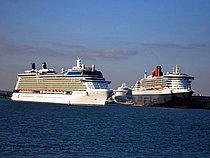Ship: (9, 54, 118, 109), (127, 63, 200, 112)
